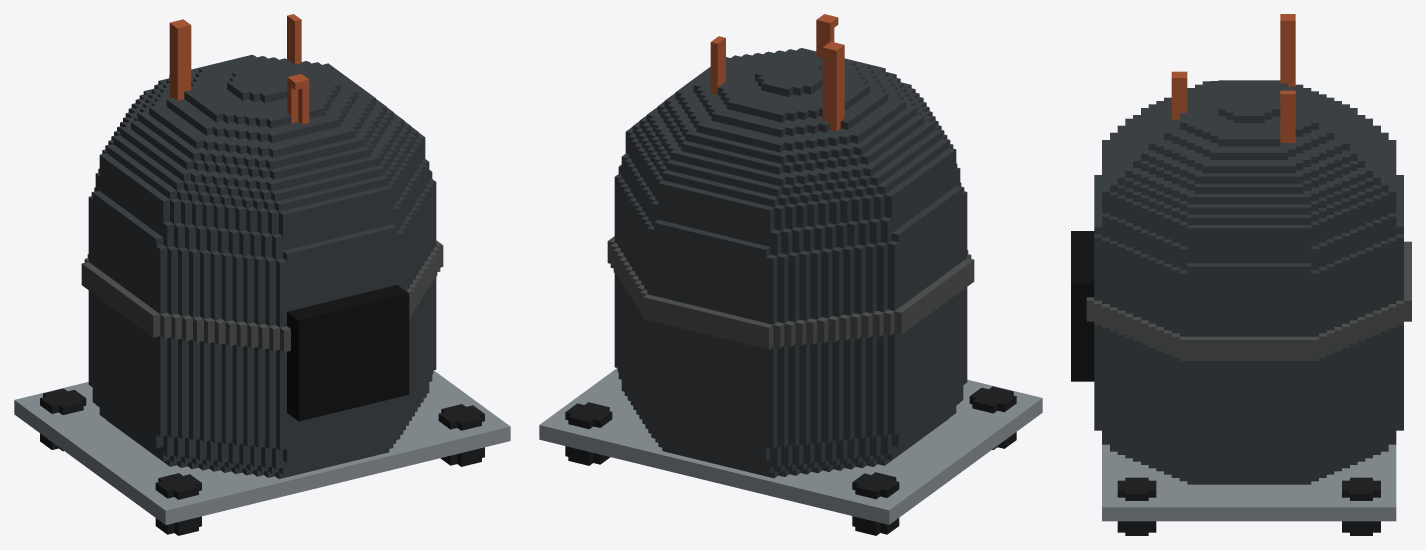
The model's file is compressor.glb.
3 renders of one model, left to right at view 1: azimuth 30°, elevation 25°; view 2: azimuth 150°, elevation 25°; view 3: azimuth 270°, elevation 25°, orthographic. The views are drawn at different scales.
Visible parts, largest first — view 1: compressor:compound; view 2: compressor:compound; view 3: compressor:compound.
Part boxes in pixels (left/top/right/bottom): compressor:compound: left=14, top=14, right=510, bottom=535; compressor:compound: left=539, top=14, right=1042, bottom=535; compressor:compound: left=1071, top=14, right=1411, bottom=535.
Bounding box in the file's own units: 0.2 × 0.236 × 0.176.
